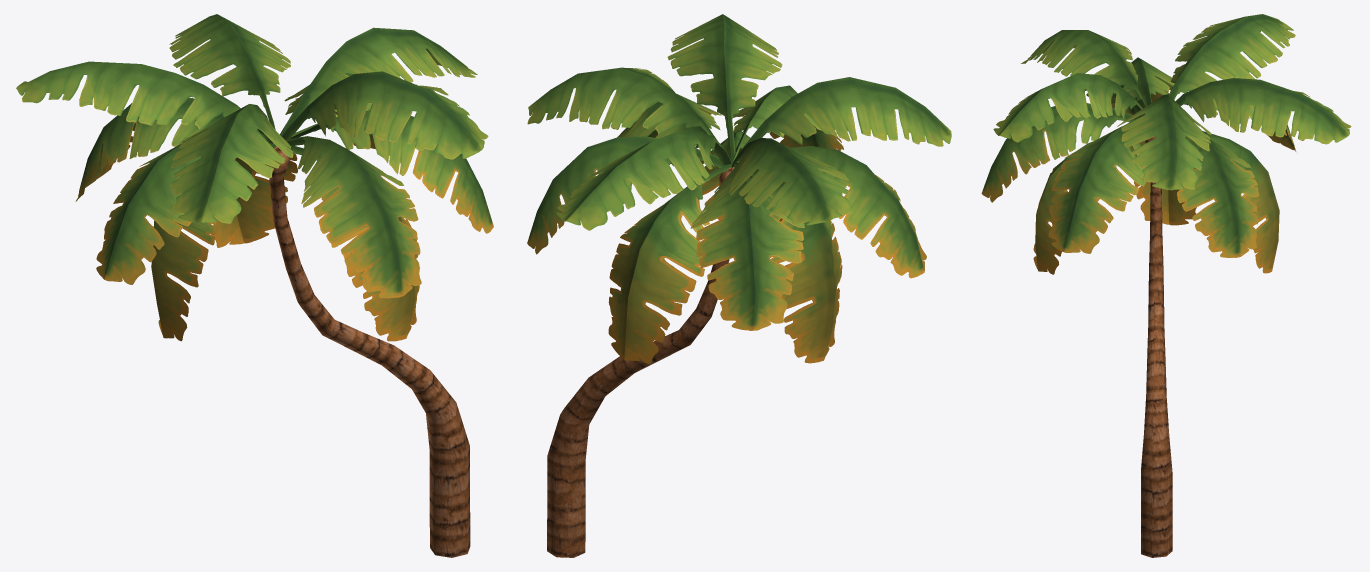
Rendered from Fbx_PalmTree_1.fbx.
3 views of the same model, side by side, from view 1: azimuth 30°, elevation 25°; view 2: azimuth 150°, elevation 25°; view 3: azimuth 270°, elevation 25° (orthographic). The views are drawn at different scales.
Visible parts, largest first — view 1: Leaves_1, Tree_1; view 2: Leaves_1, Tree_1; view 3: Leaves_1, Tree_1.
Boxes of the visible parts, x1,y1,x2,y2 form: Leaves_1: (16, 14, 493, 341); Tree_1: (265, 146, 470, 557); Leaves_1: (527, 14, 951, 364); Tree_1: (547, 167, 734, 557); Leaves_1: (981, 14, 1351, 274); Tree_1: (1141, 136, 1172, 557).
Bounding box in the file's own units: 3.03 × 3.91 × 3.07.
Materials: 2 (2 with a texture image).
